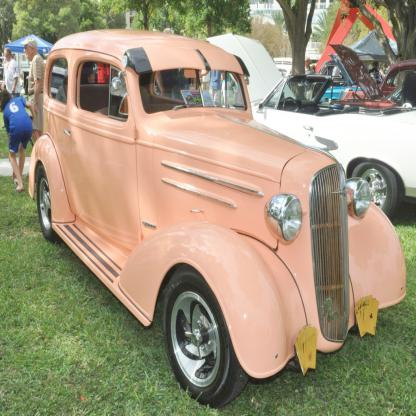Car: (25, 27, 409, 409), (207, 31, 416, 226), (327, 45, 416, 109), (312, 49, 362, 102)
